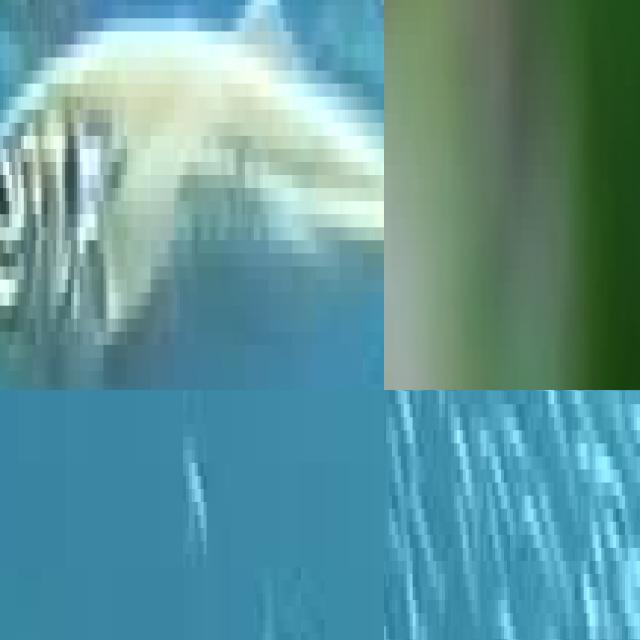fish: (0, 0, 384, 390)
